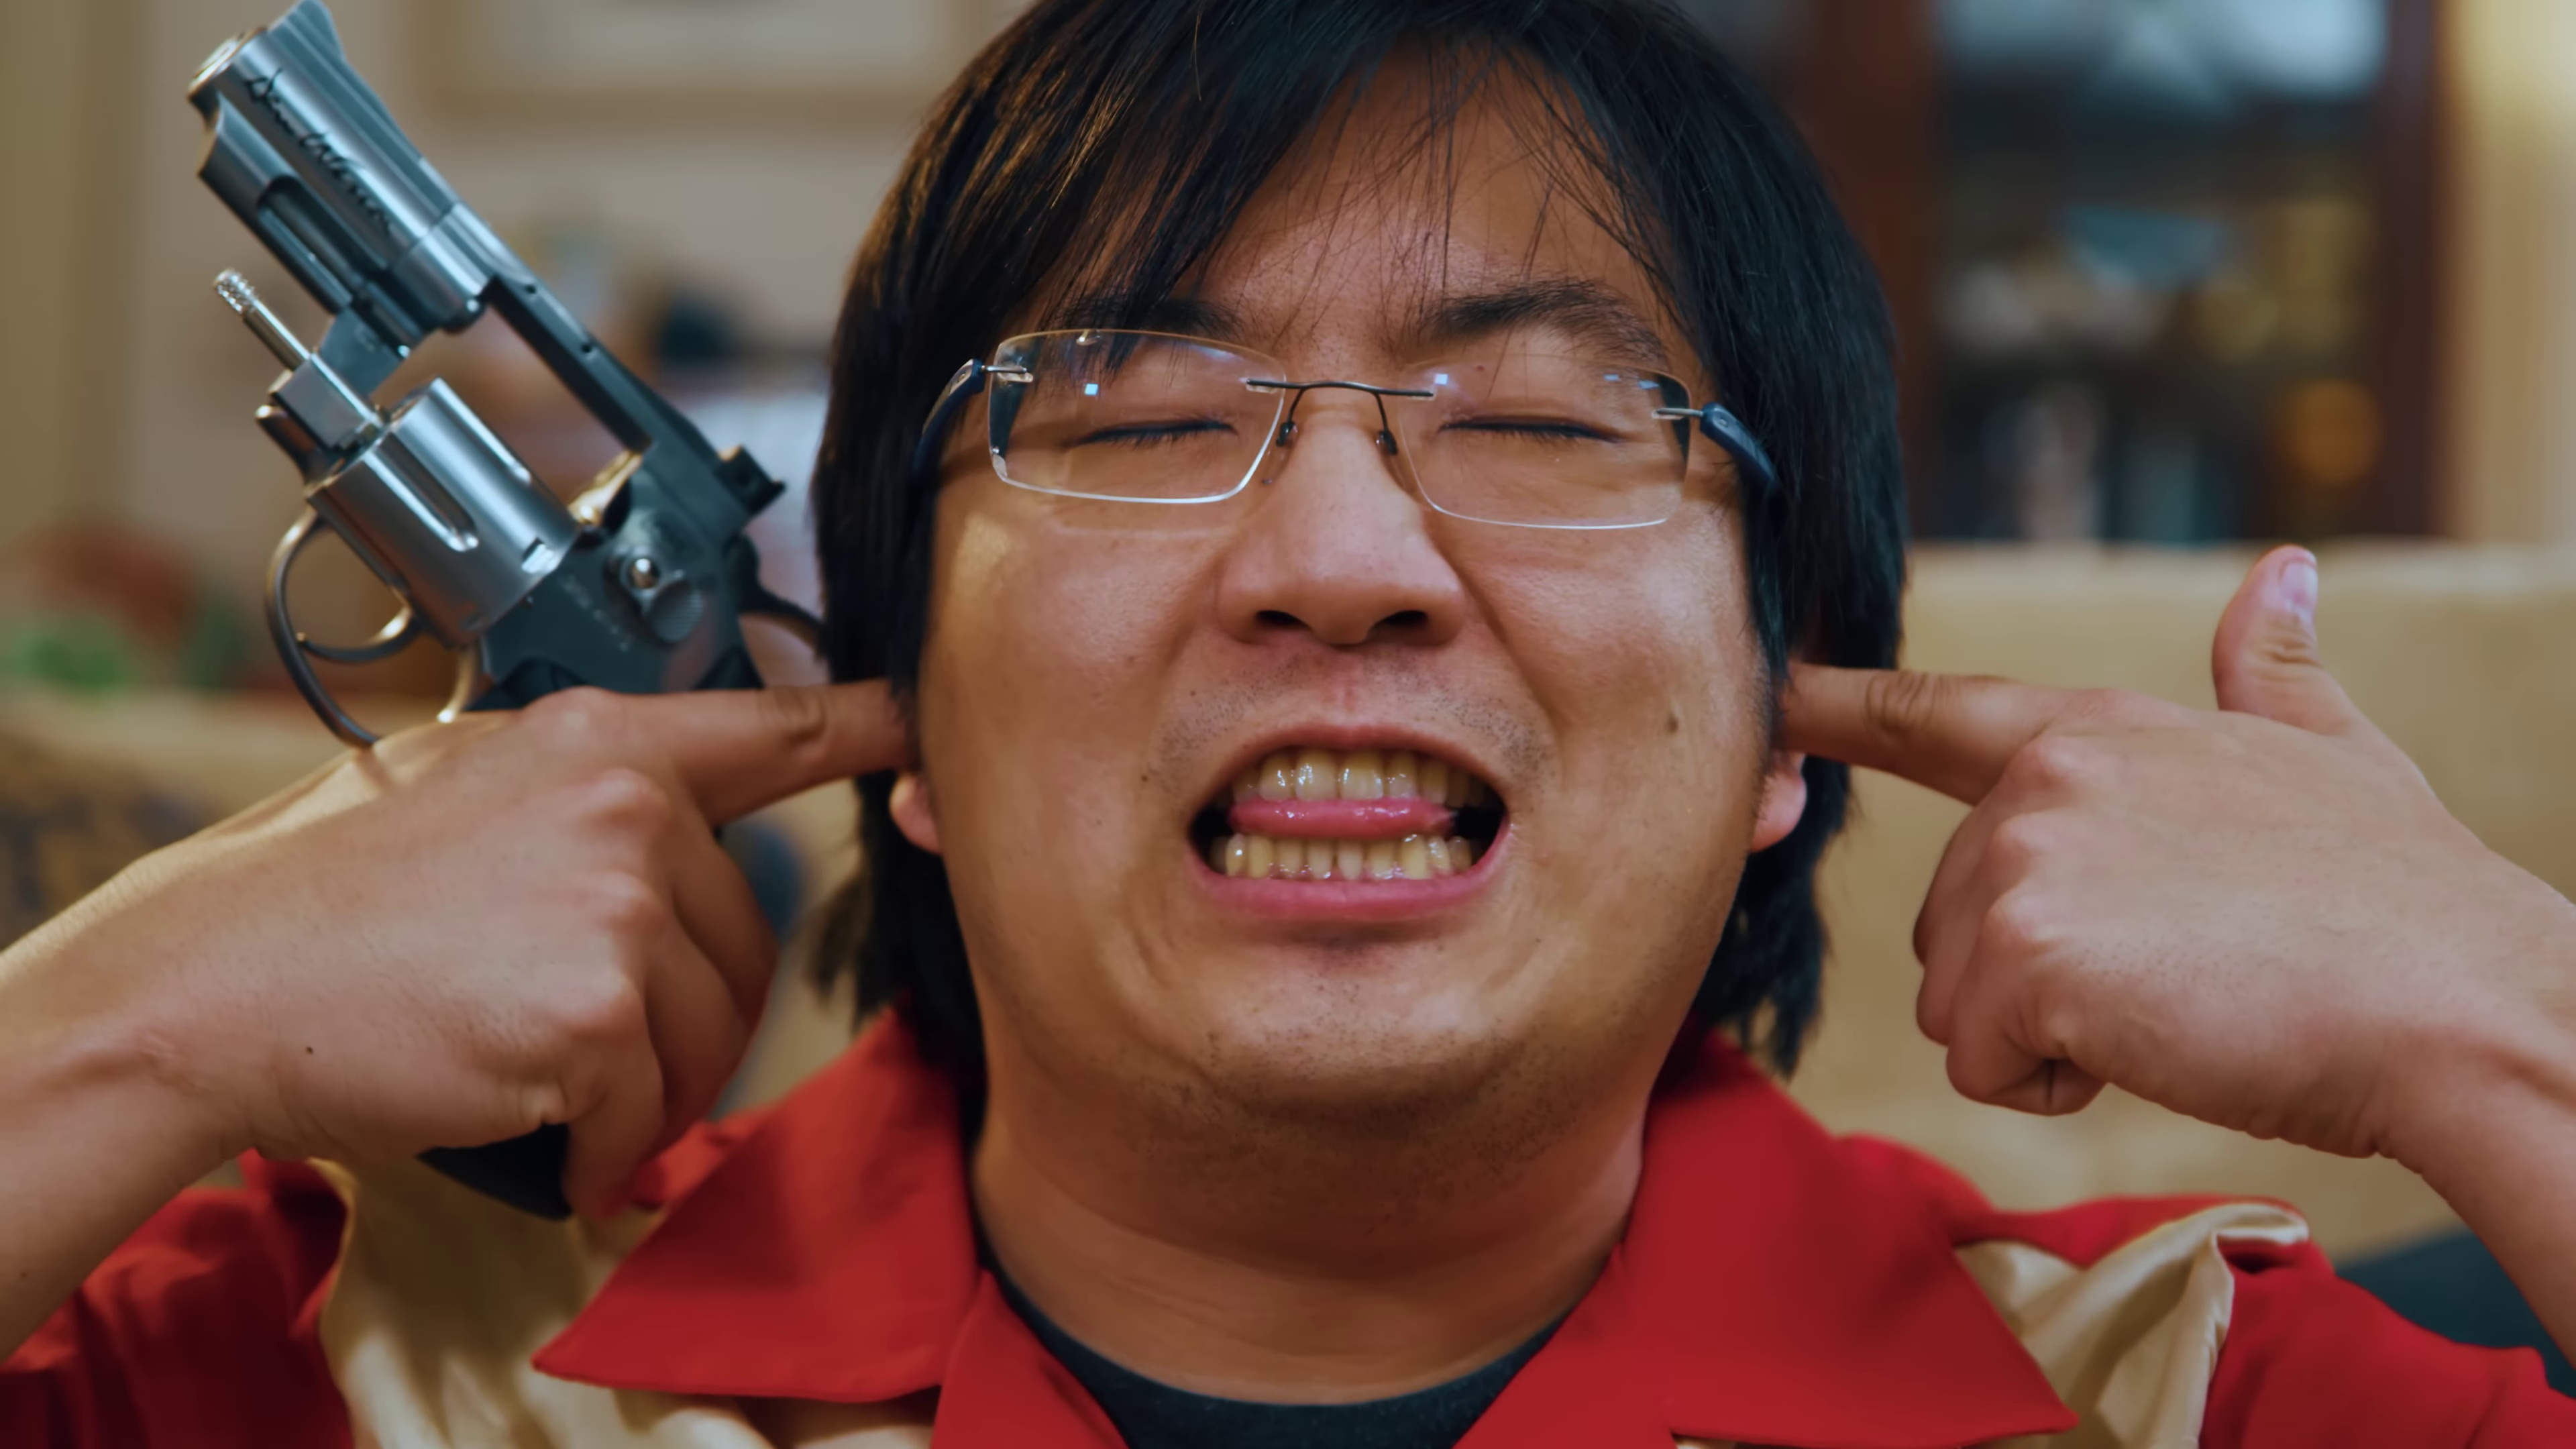gun: (159, 0, 856, 1251)
p_w_gun: (0, 0, 2576, 1449)
